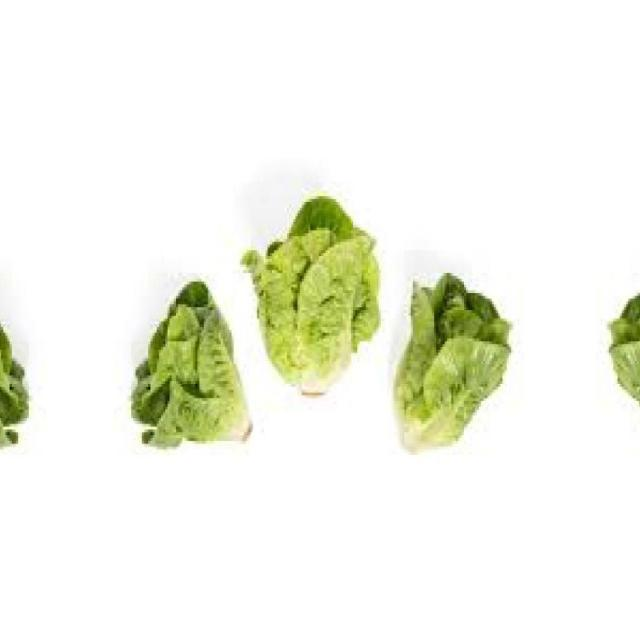healthy: (242, 196, 378, 400), (392, 268, 516, 456), (130, 274, 252, 450), (603, 268, 640, 456), (0, 274, 30, 449)
